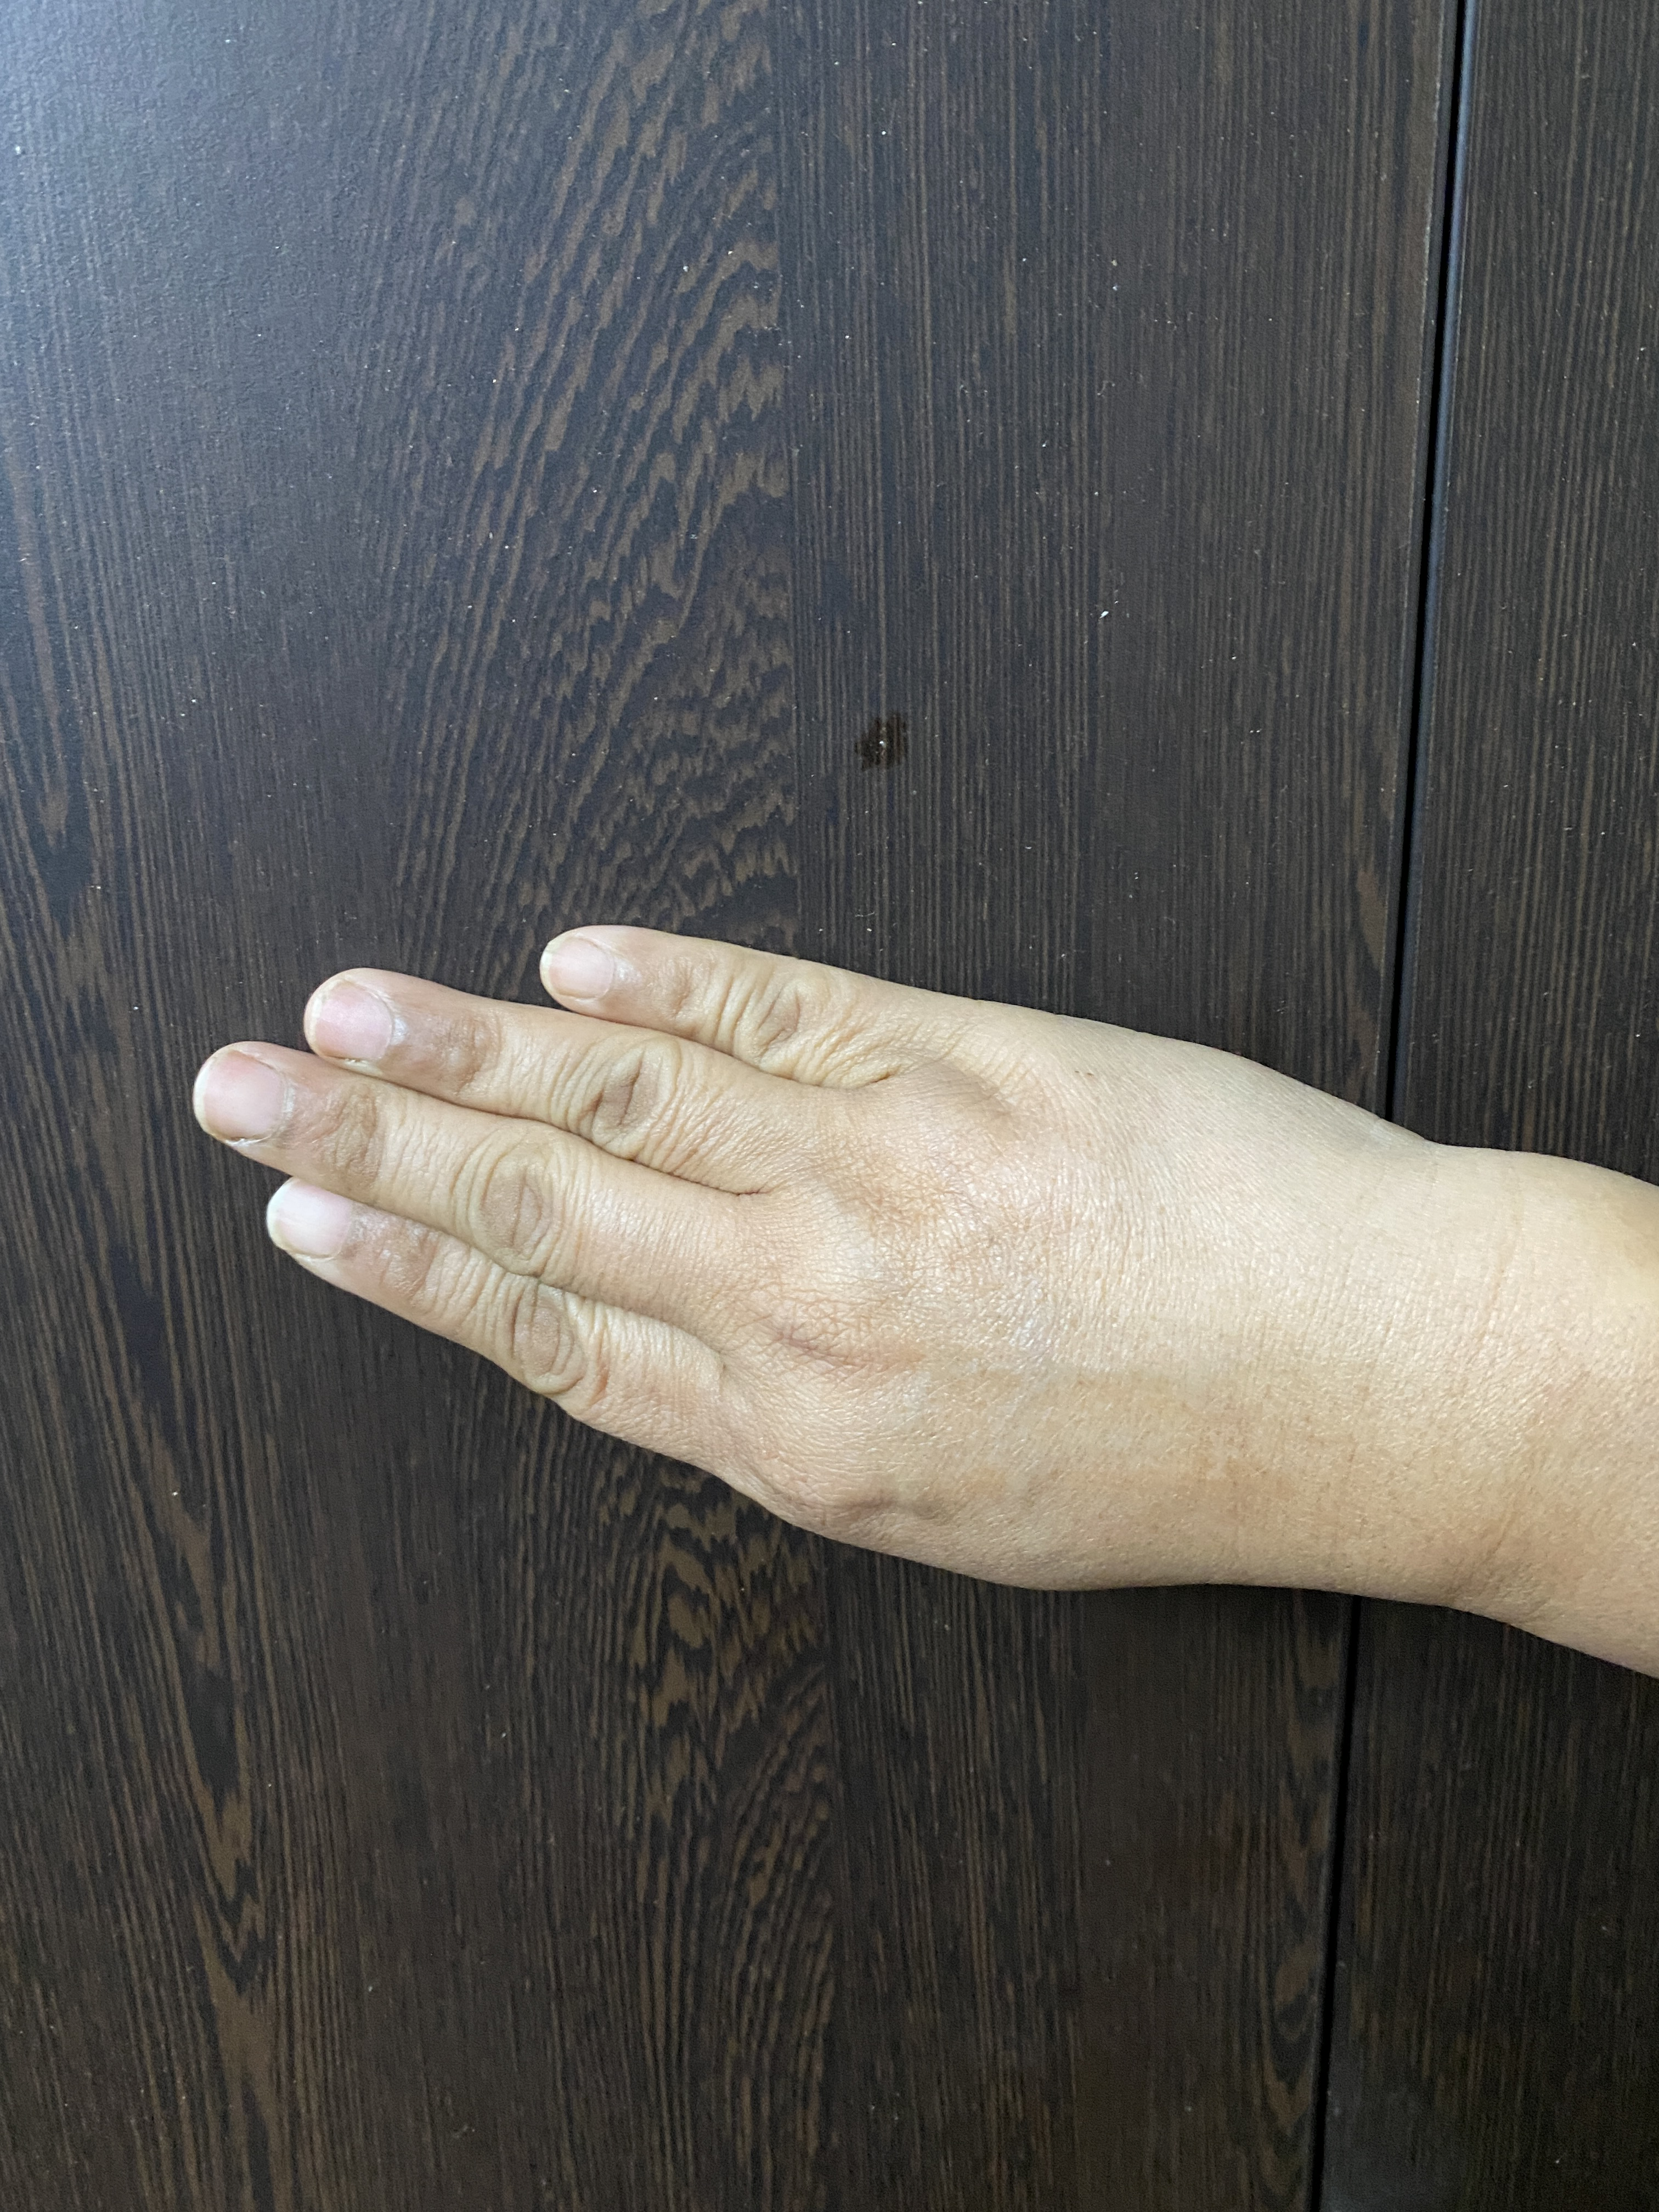right: (138, 603, 1659, 1745)
